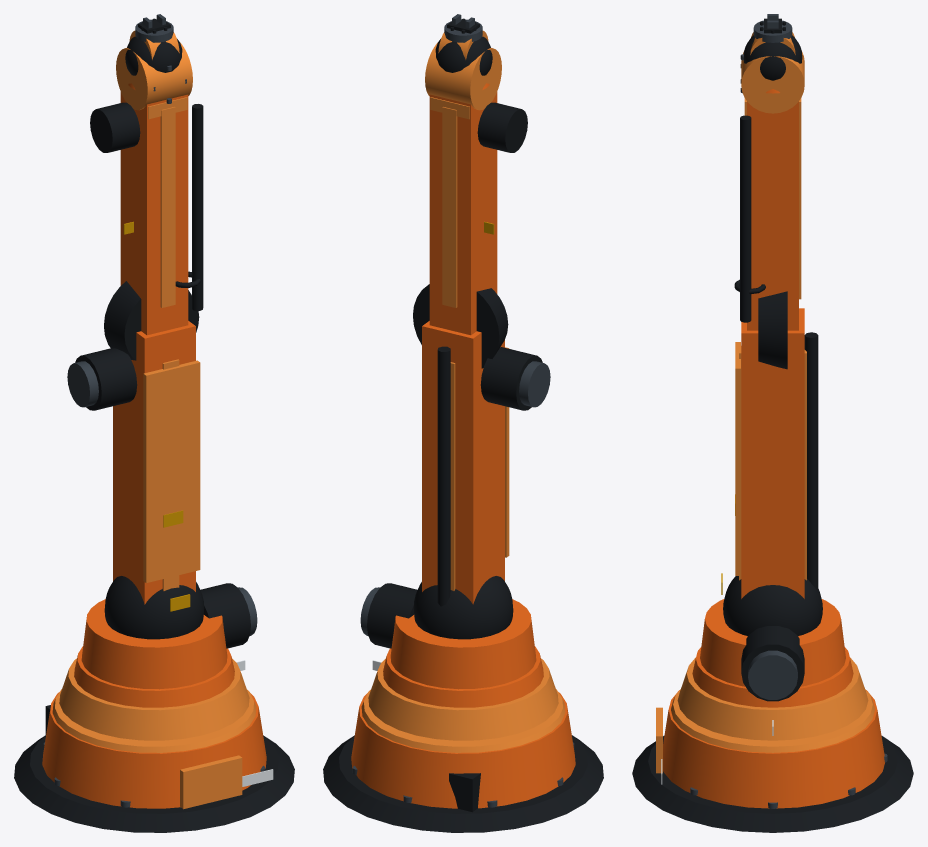
The picture shows the model from 3 angles, left to right: view 1: azimuth 30°, elevation 25°; view 2: azimuth 150°, elevation 25°; view 3: azimuth 270°, elevation 25°; orthographic projection.
Parts seen in each view (by area): view 1: link:upper-arm-panel, link:forearm, base:pedestal, base:plate, link:upper-arm, link:shoulder, joint-cover:j1, joint-cover:j2, joint-housing:j1, link:forearm-rib, base:collar, joint-cover:j4 (+8 smaller); view 2: link:upper-arm, base:pedestal, link:forearm, base:plate, link:shoulder, joint-cover:j1, joint-cover:j2, dress:cable-bundle, joint-housing:j1, link:forearm-rib, base:collar, joint-cover:j4 (+9 smaller); view 3: link:upper-arm, base:pedestal, link:forearm, base:plate, joint-cover:j1, link:shoulder, joint-cover:j2, dress:cable-bundle, base:collar, joint-housing:j1, joint-cover:j4, cable:external (+7 smaller).
Boxes of the visible parts, left/top/right/bottom form: link:upper-arm-panel: left=143, top=360, right=200, bottom=582; link:forearm: left=120, top=92, right=188, bottom=335; base:pedestal: left=42, top=692, right=266, bottom=808; base:plate: left=14, top=735, right=294, bottom=832; link:upper-arm: left=113, top=321, right=195, bottom=604; link:shoulder: left=81, top=599, right=227, bottom=689; joint-cover:j1: left=59, top=658, right=249, bottom=740; joint-cover:j2: left=104, top=576, right=204, bottom=639; joint-housing:j1: left=74, top=646, right=234, bottom=707; link:forearm-rib: left=160, top=107, right=175, bottom=307; base:collar: left=52, top=689, right=256, bottom=752; joint-cover:j4: left=116, top=42, right=192, bottom=110; link:upper-arm: left=422, top=321, right=504, bottom=604; base:pedestal: left=351, top=692, right=575, bottom=808; link:forearm: left=429, top=92, right=497, bottom=335; base:plate: left=323, top=735, right=603, bottom=832; link:shoulder: left=390, top=599, right=536, bottom=689; joint-cover:j1: left=368, top=658, right=558, bottom=740; joint-cover:j2: left=413, top=576, right=513, bottom=639; dress:cable-bundle: left=437, top=346, right=450, bottom=606; joint-housing:j1: left=383, top=646, right=543, bottom=707; link:forearm-rib: left=442, top=107, right=457, bottom=307; base:collar: left=361, top=689, right=565, bottom=752; joint-cover:j4: left=425, top=42, right=501, bottom=110; link:upper-arm: left=741, top=308, right=804, bottom=598; base:pedestal: left=663, top=690, right=884, bottom=808; link:forearm: left=747, top=101, right=798, bottom=330; base:plate: left=632, top=736, right=913, bottom=832; joint-cover:j1: left=677, top=657, right=868, bottom=740; link:shoulder: left=700, top=599, right=845, bottom=686; joint-cover:j2: left=723, top=576, right=822, bottom=635; dress:cable-bundle: left=804, top=332, right=818, bottom=589; base:collar: left=671, top=689, right=874, bottom=752; joint-housing:j1: left=692, top=647, right=853, bottom=707; joint-cover:j4: left=741, top=52, right=804, bottom=113; cable:external: left=740, top=115, right=751, bottom=322.
Size of the model in its own units: 1.98 by 5.87 by 1.98.
